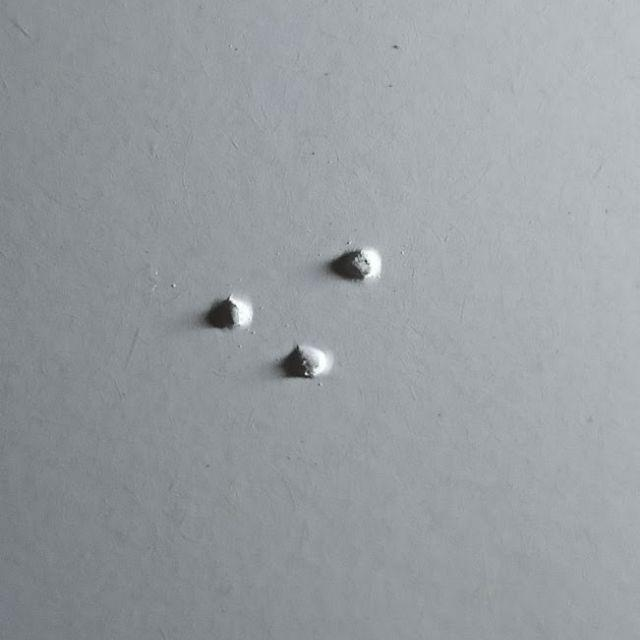dot_5: (158, 251, 253, 381)
sinta: (287, 247, 382, 378)
